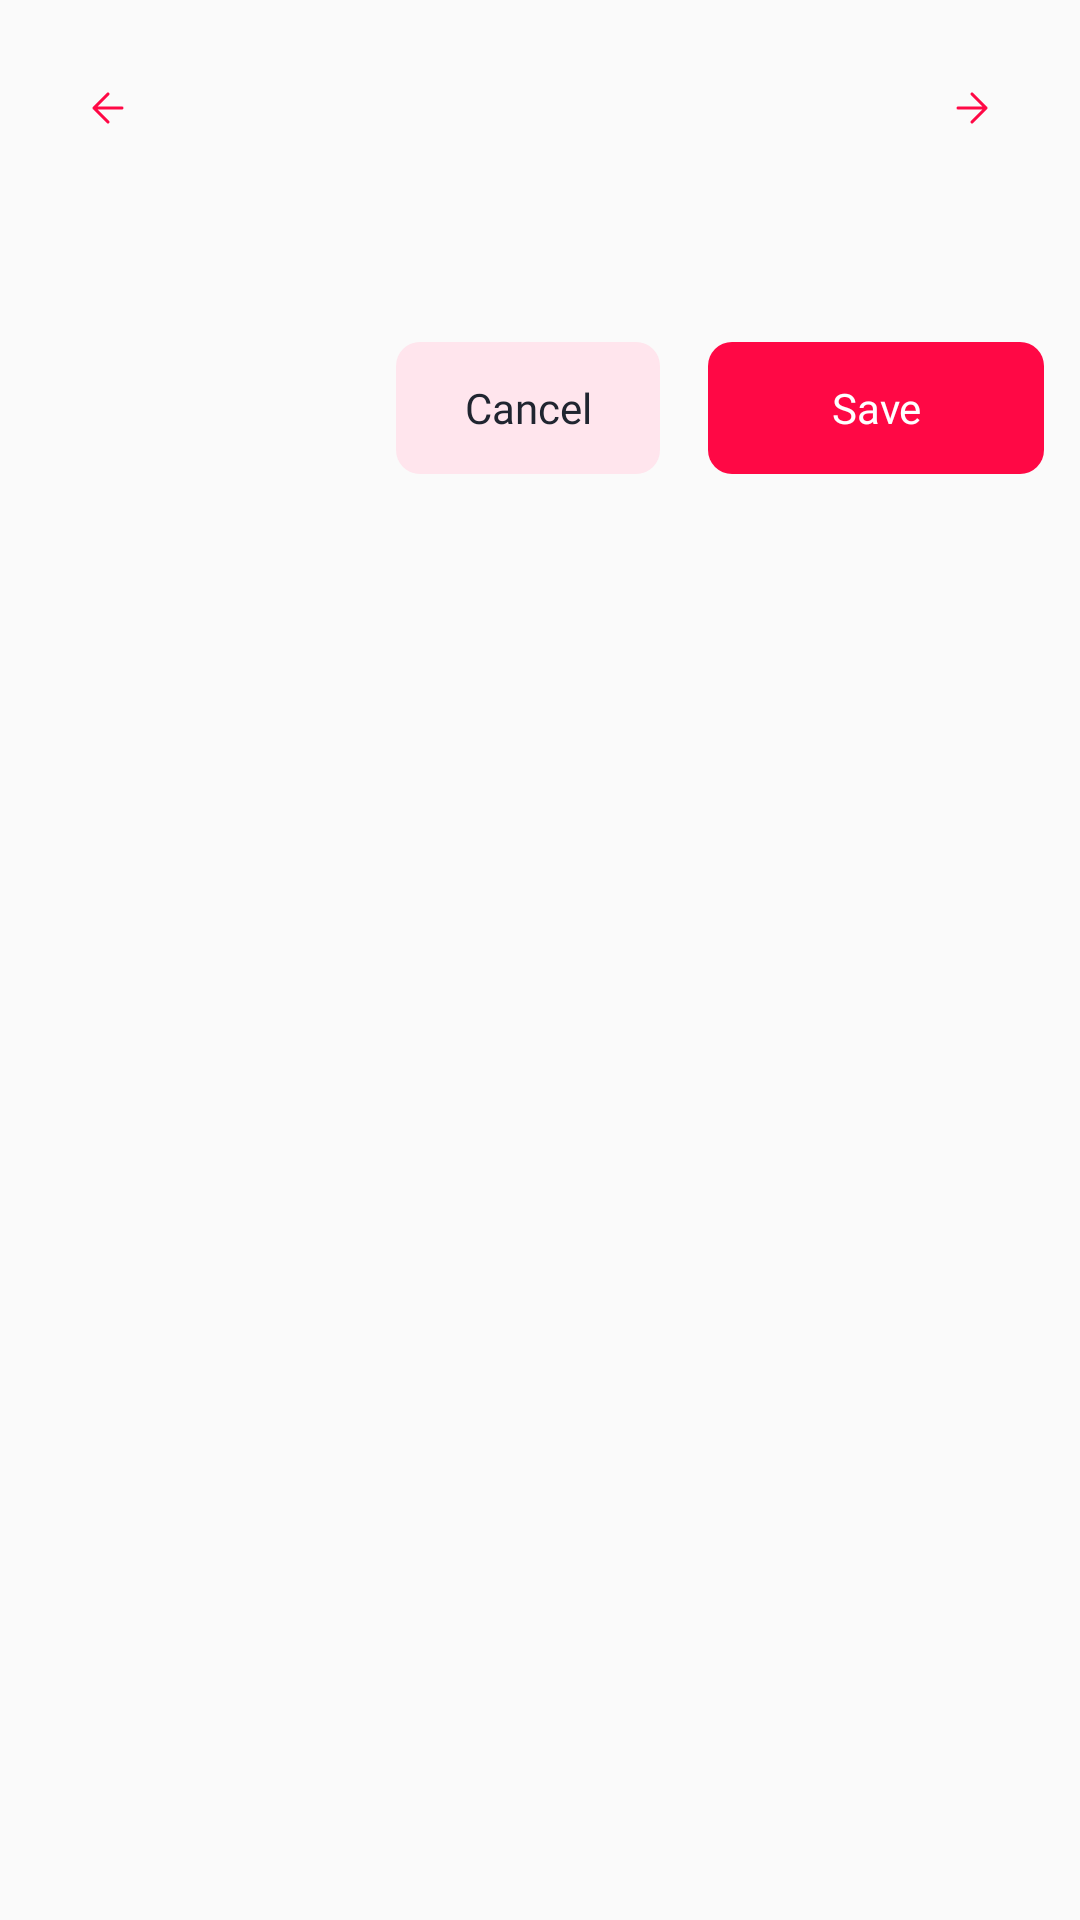

Where icons sit on this 1080 x 1920 app screen, as (left=x1, top=y1, right=x2, bottom=y2):
Previous month: (left=92, top=92, right=124, bottom=124)
